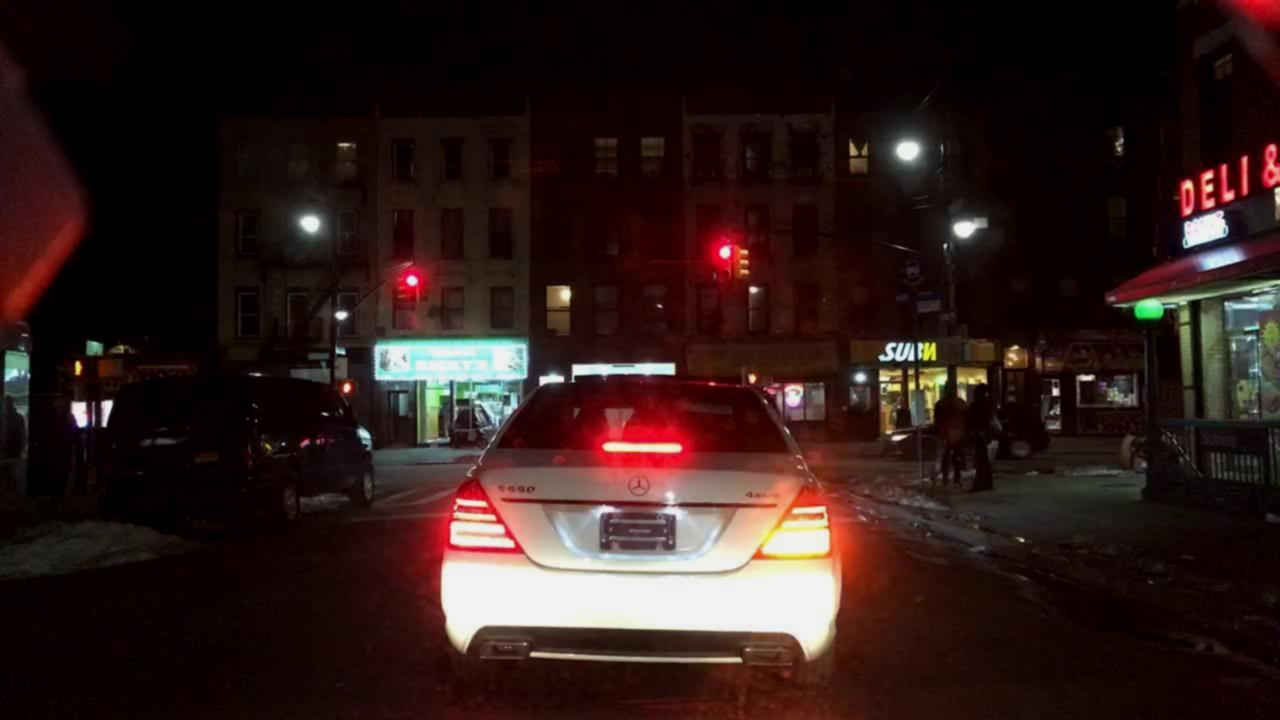Mercedes: (620, 471, 653, 503)
